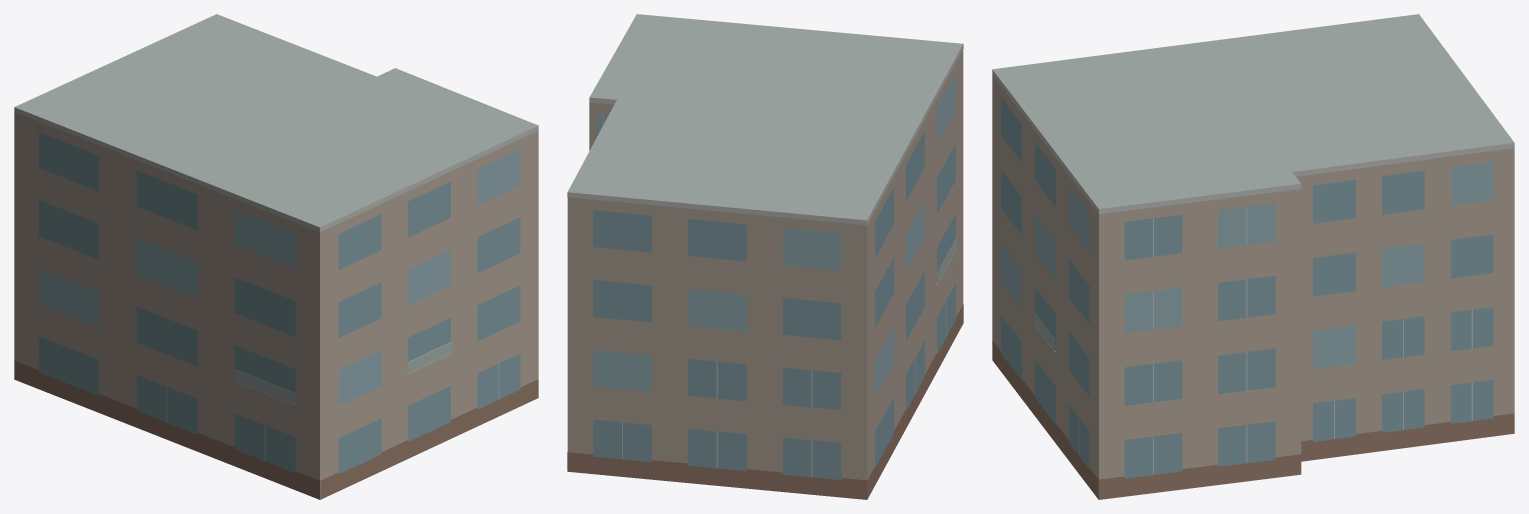
Rendered from survey-upis-33032109.glb.
3 views of the same model, side by side, from view 1: azimuth 30°, elevation 25°; view 2: azimuth 150°, elevation 25°; view 3: azimuth 270°, elevation 25° (orthographic). The views are drawn at different scales.
Parts seen in each view (by area): view 1: survey-upis-33032109.tmp; view 2: survey-upis-33032109.tmp; view 3: survey-upis-33032109.tmp.
Part boxes in pixels (box(x1,y1,x2,y2)): survey-upis-33032109.tmp: box(14, 14, 538, 499); survey-upis-33032109.tmp: box(567, 14, 963, 499); survey-upis-33032109.tmp: box(992, 14, 1514, 499).
Bounding box in the file's own units: 19.58 × 13.6 × 22.15.
